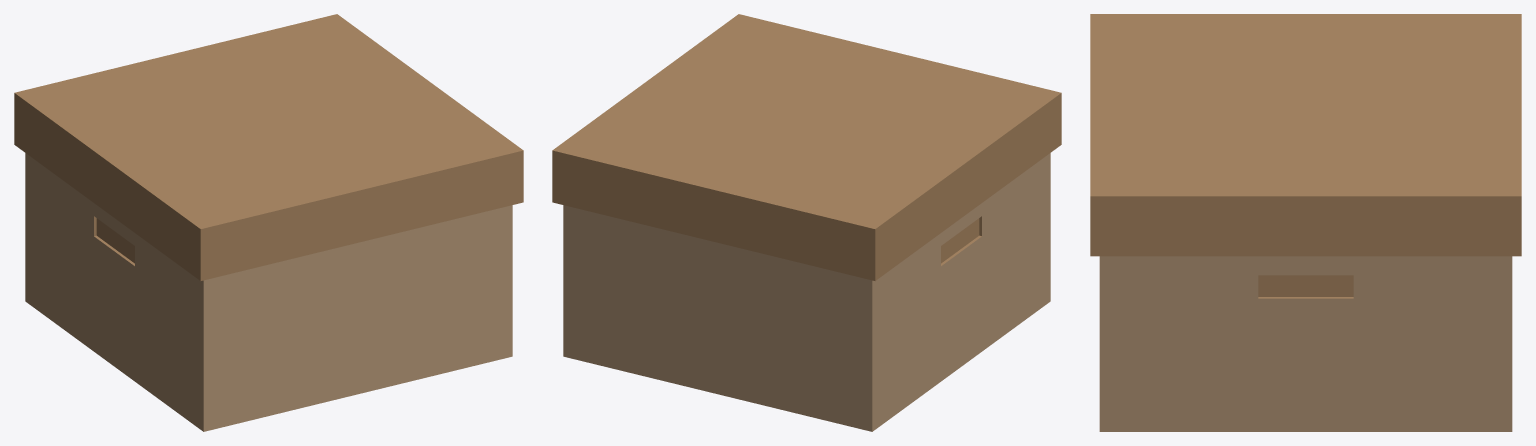
The picture shows the model from 3 angles, left to right: view 1: azimuth 30°, elevation 25°; view 2: azimuth 150°, elevation 25°; view 3: azimuth 270°, elevation 25°; orthographic projection. The views are drawn at different scales.
Parts seen in each view (by area): view 1: Box_01; view 2: Box_01; view 3: Box_01.
Part boxes in pixels (<box>): Box_01: <box>14,14,523,431</box>; Box_01: <box>552,14,1061,431</box>; Box_01: <box>1090,14,1521,431</box>.
Size of the model in its own units: 33.79 by 20.73 by 33.79.
